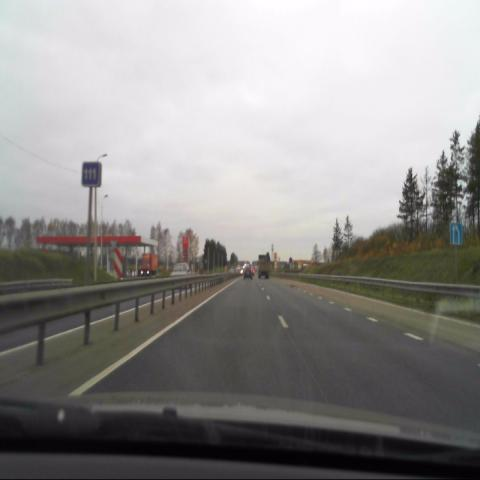5_15_5: (450, 220, 464, 249)
